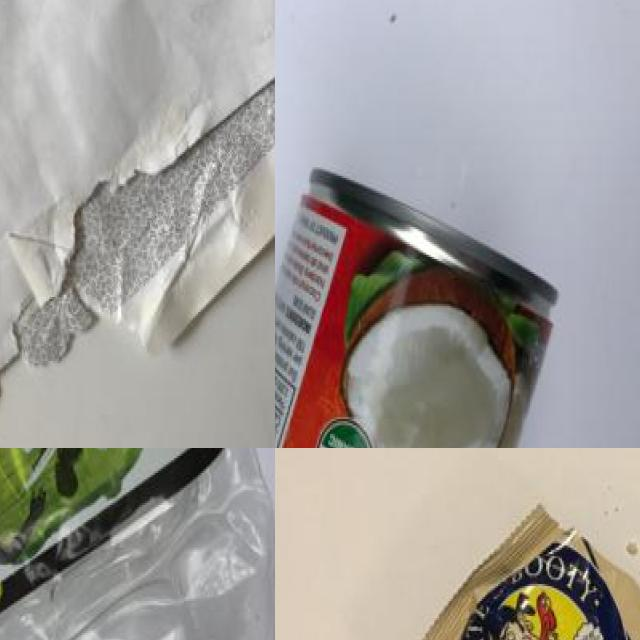paper: (0, 0, 275, 405)
plastic: (275, 148, 561, 448), (0, 448, 275, 640)
trash: (388, 502, 640, 640)
